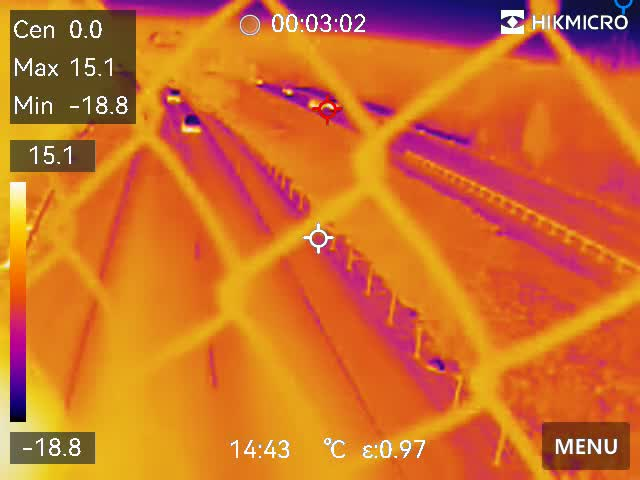vehicle: (179, 113, 207, 138), (164, 85, 181, 107), (275, 84, 294, 98), (251, 79, 265, 88)
